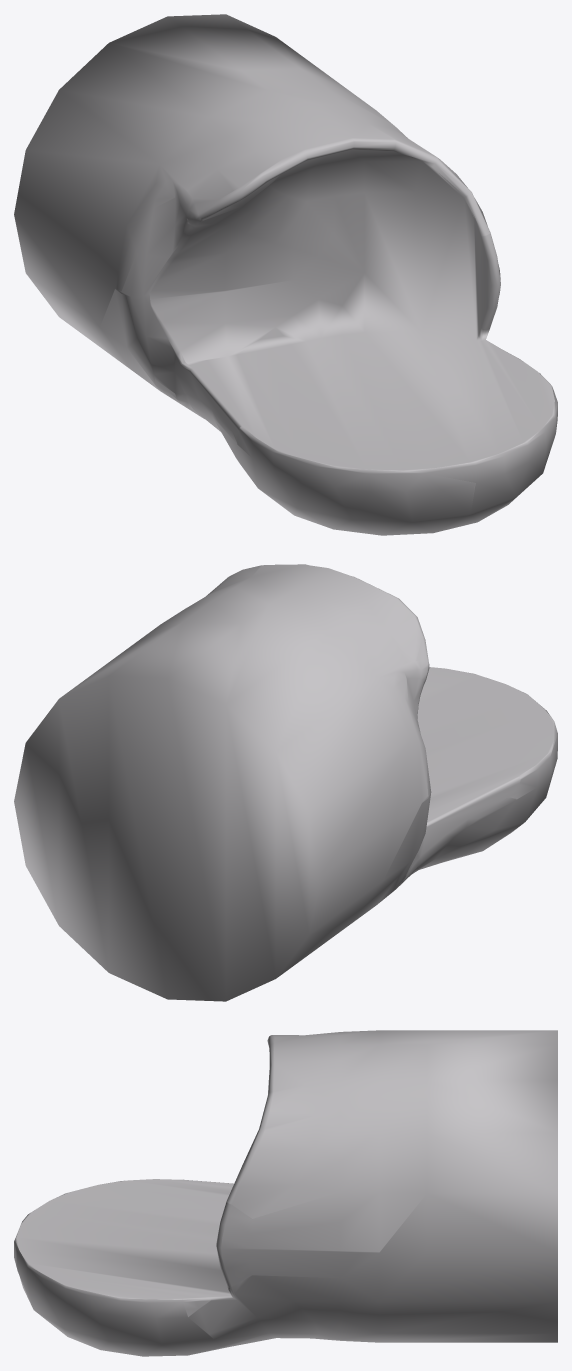
The model's file is Left_Shoulder_Upper.dae.
3 renders of one model, top to bottom at view 1: azimuth 30°, elevation 25°; view 2: azimuth 150°, elevation 25°; view 3: azimuth 270°, elevation 25°, orthographic. The views are drawn at different scales.
Parts seen in each view (by area): view 1: Mesh; view 2: Mesh; view 3: Mesh.
Part boxes in pixels (bbox=[...]): Mesh: bbox=[14, 14, 557, 535]; Mesh: bbox=[14, 564, 557, 1001]; Mesh: bbox=[14, 1030, 557, 1356].
Bounding box in the file's own units: 0.1778 × 0.1778 × 0.3094.
Materials: 1 (1 with a texture image).
